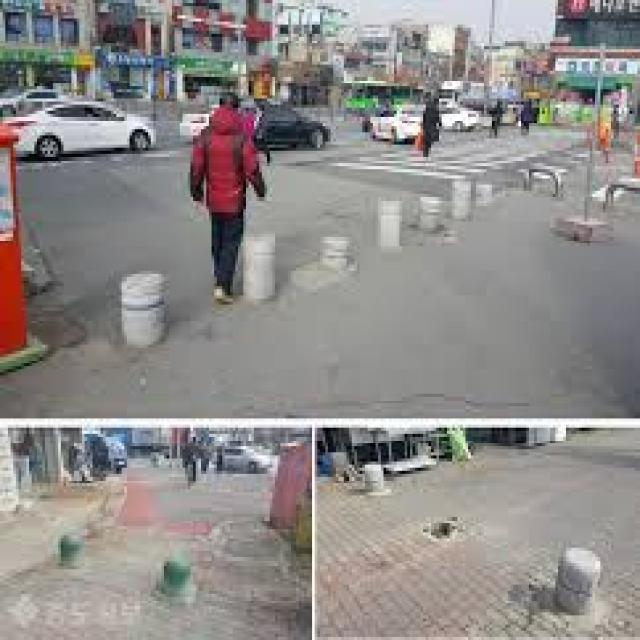bollard: (549, 528, 611, 623), (107, 262, 170, 352), (143, 538, 200, 607), (240, 228, 284, 314), (374, 188, 408, 258), (600, 168, 640, 226), (518, 163, 572, 202), (356, 457, 396, 503), (52, 528, 92, 574), (313, 231, 352, 275), (416, 189, 444, 242), (449, 169, 471, 230), (473, 181, 493, 215)
